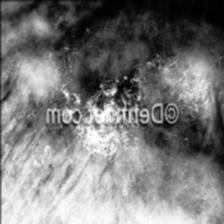Potentially Malignant Skin Tumors: (80, 65, 138, 105)
